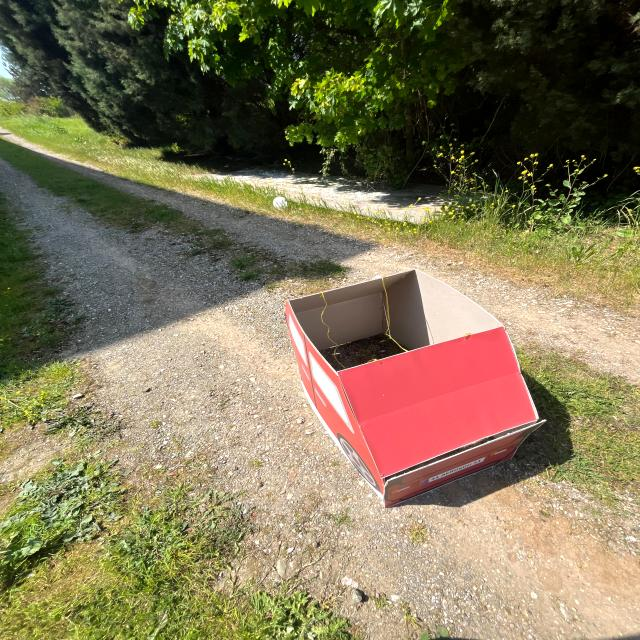red_car: (261, 265, 565, 510)
